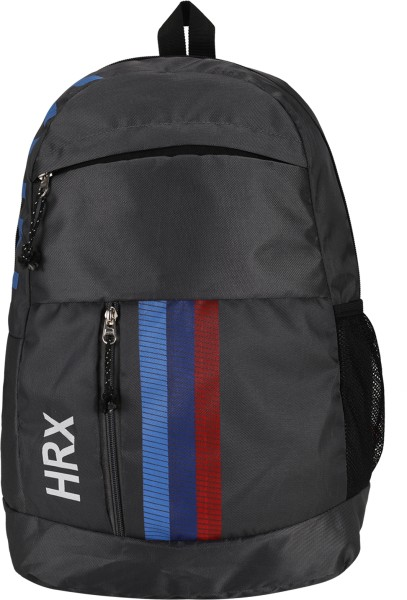backpack: (0, 1, 385, 598)
